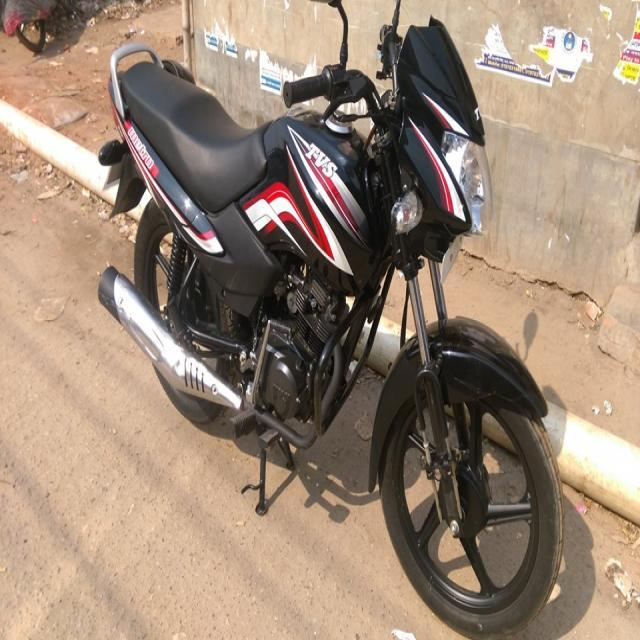Motorbike: (74, 1, 640, 640)
